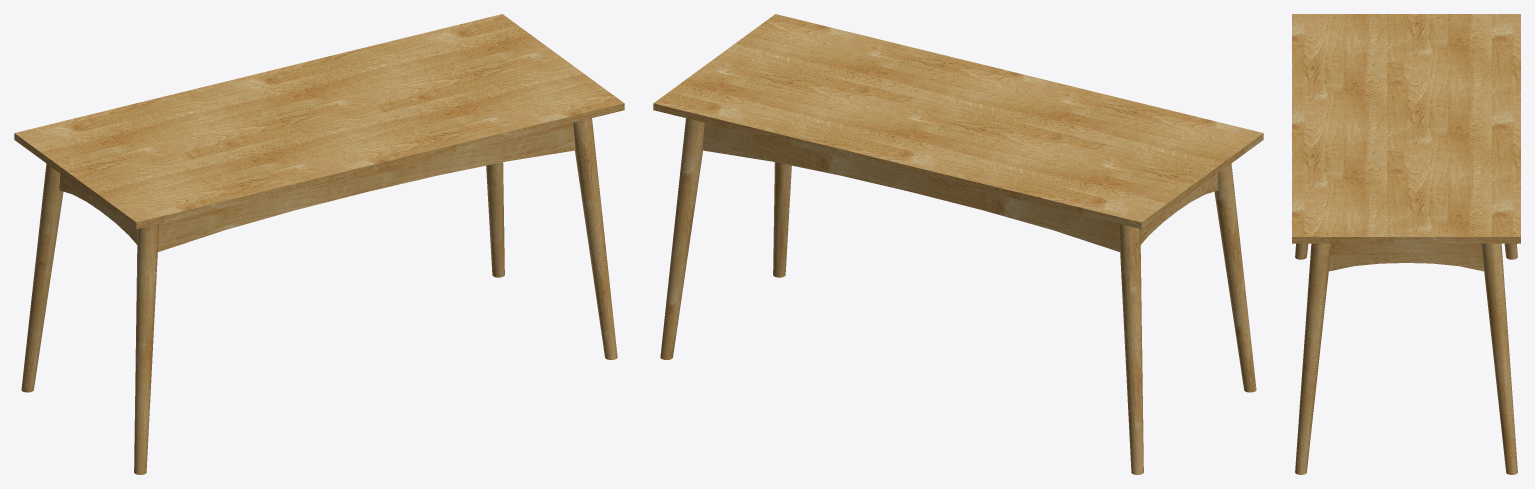
File: sh_scopia_table_with_leaning_feet.glb
The picture shows the model from 3 angles, left to right: view 1: azimuth 30°, elevation 25°; view 2: azimuth 150°, elevation 25°; view 3: azimuth 270°, elevation 25°; orthographic projection. The views are drawn at different scales.
Bounding box in the file's own units: 1.5 × 0.75 × 0.65.
Materials: 3 (3 with a texture image).
